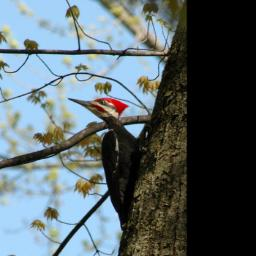Woodpecker: (63, 95, 149, 233)
